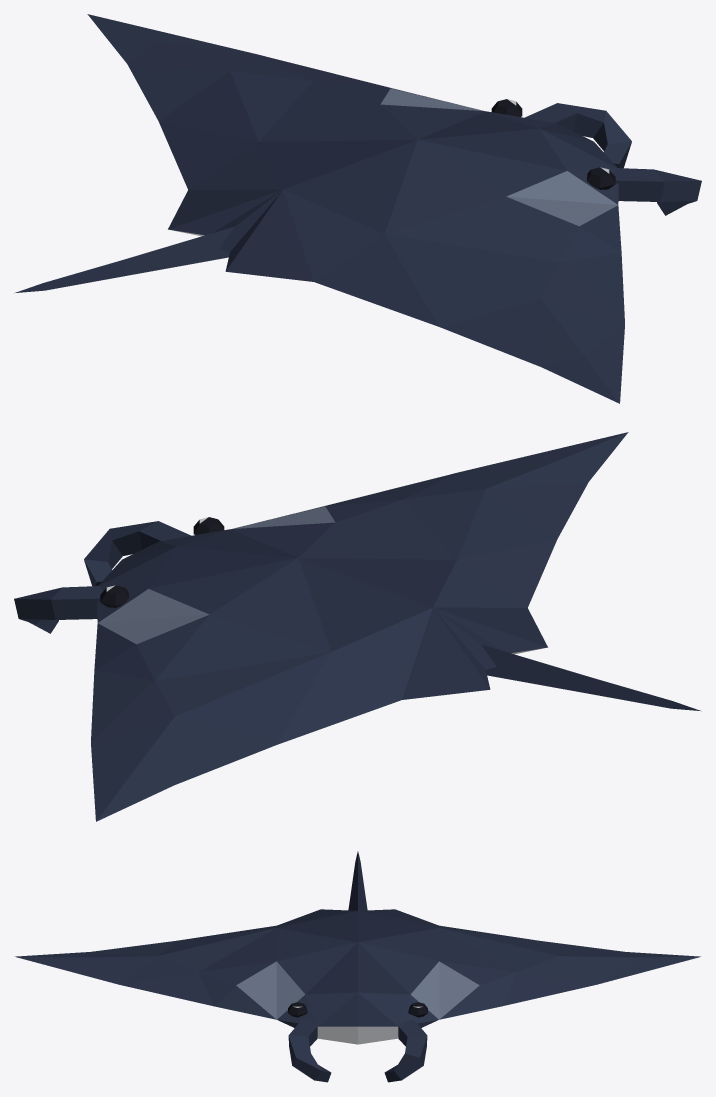
Rendered from manta_ray.glb.
3 views of the same model, one above another, from view 1: azimuth 30°, elevation 25°; view 2: azimuth 150°, elevation 25°; view 3: azimuth 270°, elevation 25° (orthographic). The views are drawn at different scales.
Parts seen in each view (by area): view 1: manta_ray; view 2: manta_ray; view 3: manta_ray.
Part boxes in pixels (bbox=[...]): manta_ray: bbox=[14, 14, 701, 403]; manta_ray: bbox=[14, 432, 701, 821]; manta_ray: bbox=[15, 851, 700, 1082].
Bounding box in the file's own units: 1 × 0.1561 × 1.42.
